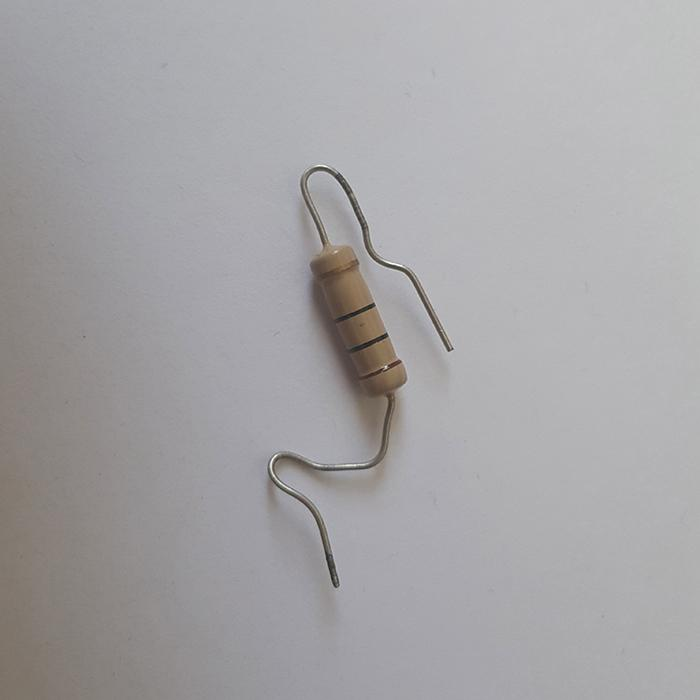resistor: (310, 245, 405, 394)
